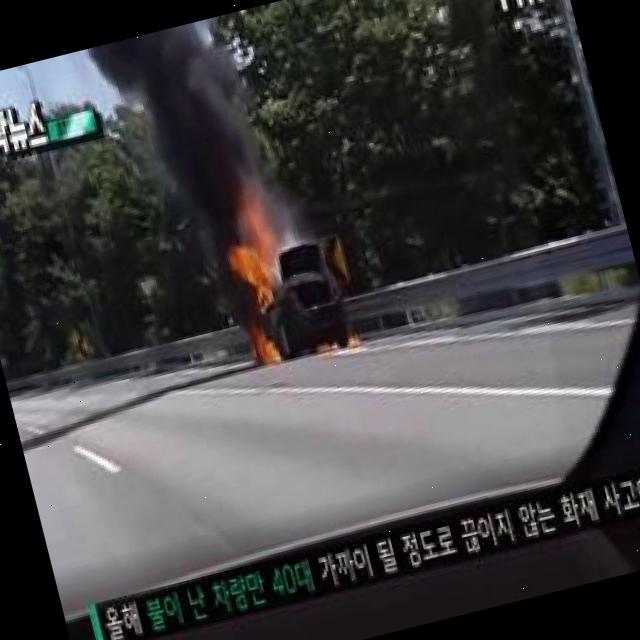fire: (228, 221, 288, 303), (252, 329, 280, 366)
